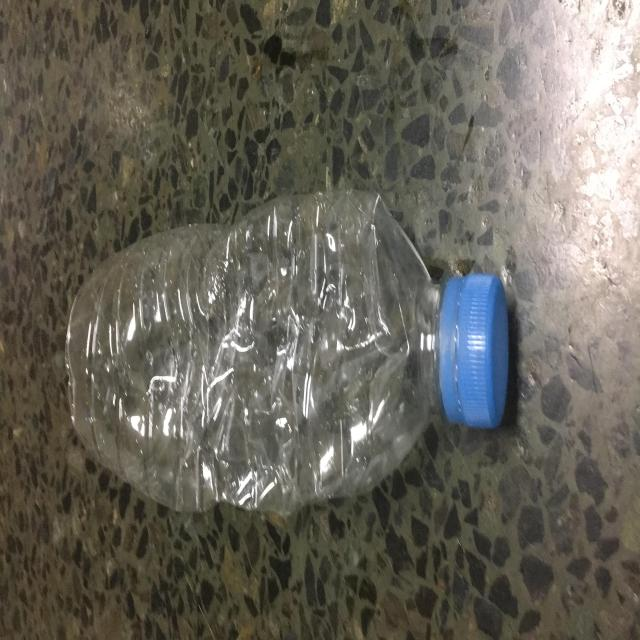bottle: (58, 182, 513, 523)
